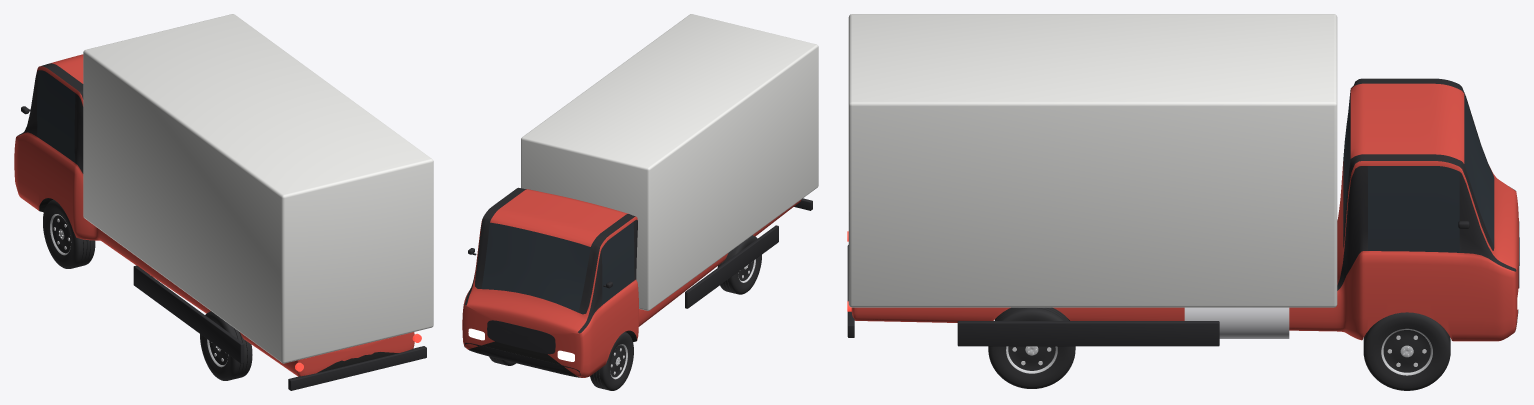
Rendered from TrafficLorry.glb.
The picture shows the model from 3 angles, left to right: view 1: azimuth 30°, elevation 25°; view 2: azimuth 150°, elevation 25°; view 3: azimuth 270°, elevation 25°; orthographic projection. The views are drawn at different scales.
Visible parts, largest first — view 1: TrafficLorry_Body, TrafficLorry_Glass, TrafficLorry_Wheel_FL, TrafficLorry_Wheel_RL; view 2: TrafficLorry_Body, TrafficLorry_Glass, TrafficLorry_Wheel_FL, TrafficLorry_Wheel_RL, TrafficLorry_Lights_Head; view 3: TrafficLorry_Body, TrafficLorry_Glass, TrafficLorry_Wheel_FR, TrafficLorry_Wheel_RR.
Boxes of the visible parts, x1=… form: TrafficLorry_Body: x1=14, y1=14, x2=433, y2=390; TrafficLorry_Glass: x1=37, y1=70, x2=75, y2=162; TrafficLorry_Wheel_FL: x1=43, y1=199, x2=95, y2=268; TrafficLorry_Wheel_RL: x1=200, y1=311, x2=252, y2=380; TrafficLorry_Body: x1=462, y1=14, x2=818, y2=377; TrafficLorry_Glass: x1=481, y1=222, x2=634, y2=312; TrafficLorry_Wheel_FL: x1=590, y1=332, x2=633, y2=390; TrafficLorry_Wheel_RL: x1=717, y1=235, x2=761, y2=294; TrafficLorry_Lights_Head: x1=468, y1=328, x2=574, y2=361; TrafficLorry_Body: x1=847, y1=14, x2=1519, y2=346; TrafficLorry_Glass: x1=1343, y1=90, x2=1494, y2=252; TrafficLorry_Wheel_FR: x1=1363, y1=312, x2=1450, y2=390; TrafficLorry_Wheel_RR: x1=988, y1=307, x2=1075, y2=388.
Bounding box in the file's own units: 2.7 × 3.7 × 7.7.
